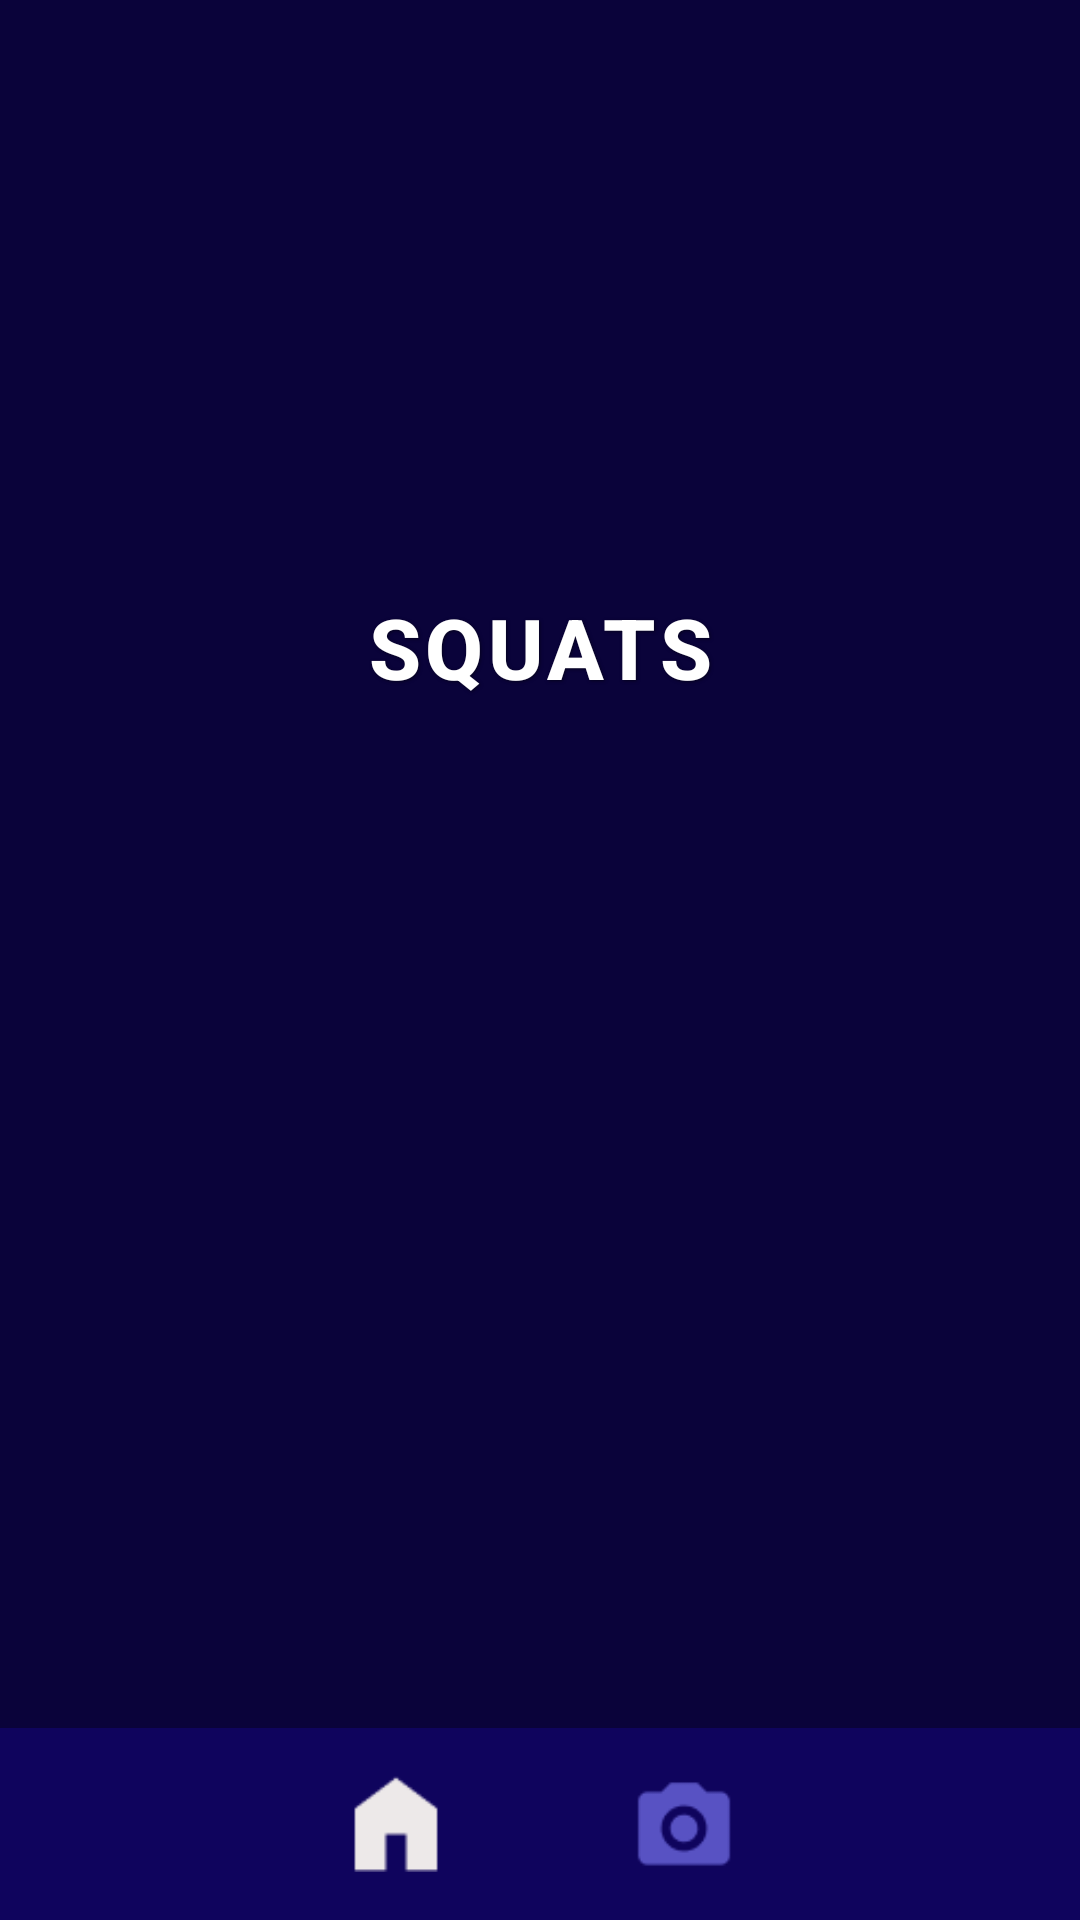

Screen size 1080×1920. Icon name, then its box in pixels as (x1, y1, x2, y2):
camera: (638, 1782, 730, 1866)
